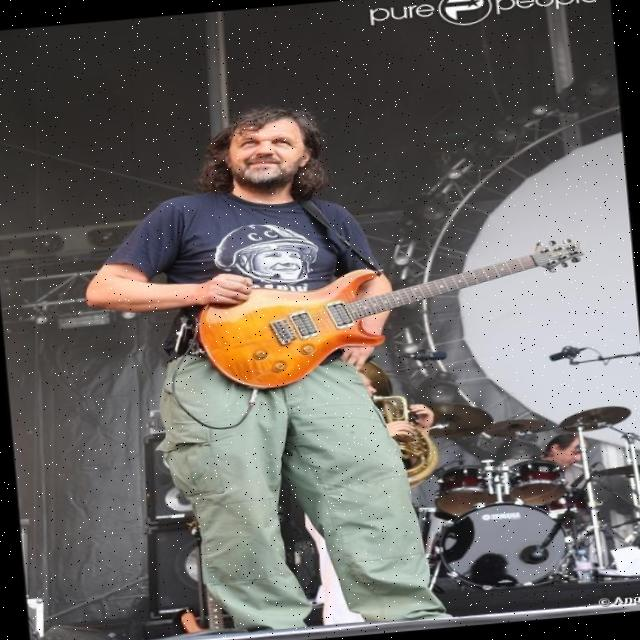guitar: (187, 233, 596, 396)
